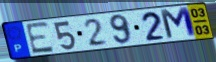2: (141, 10, 169, 44), (83, 18, 109, 49)
5: (52, 19, 78, 51)
9: (107, 13, 133, 46)
E: (24, 20, 56, 56)
M: (158, 6, 199, 41)
